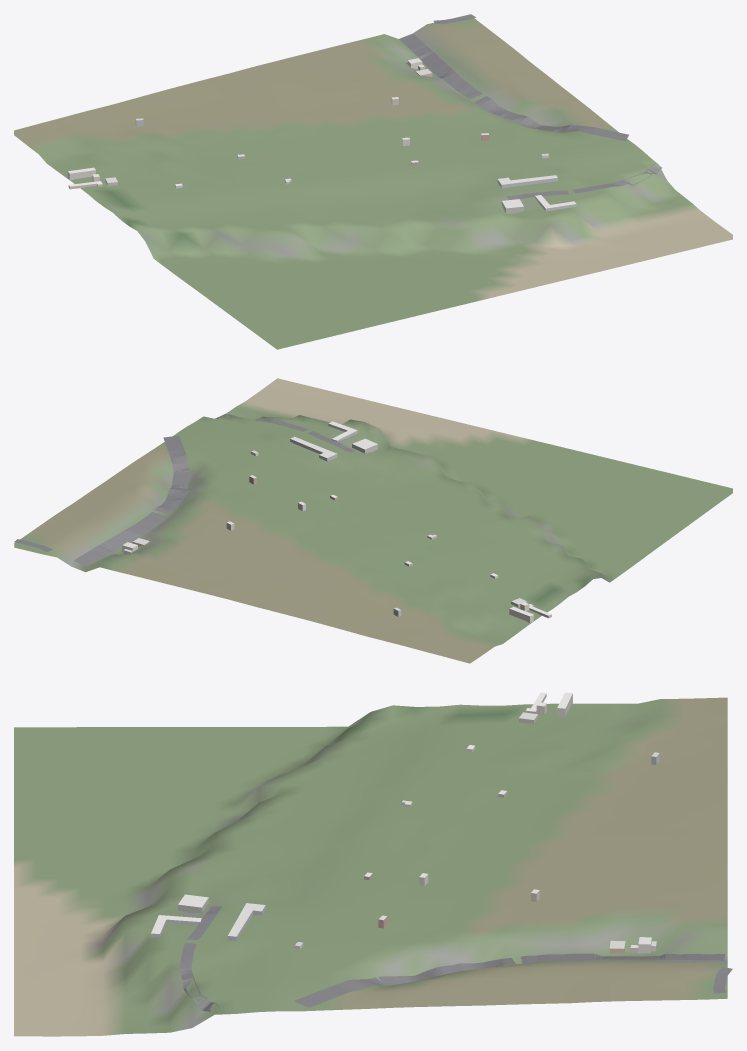
3 views of the same model, one above another, from view 1: azimuth 30°, elevation 25°; view 2: azimuth 150°, elevation 25°; view 3: azimuth 270°, elevation 25° (orthographic). The views are drawn at different scales.
Parts seen in each view (by area): view 1: prim0, prim2, prim1; view 2: prim0, prim2, prim1; view 3: prim0, prim2, prim1.
Boxes of the visible parts, bbox=[...] form: prim0: bbox=[14, 14, 732, 349]; prim2: bbox=[399, 14, 661, 200]; prim1: bbox=[67, 58, 576, 213]; prim0: bbox=[14, 378, 732, 663]; prim2: bbox=[14, 413, 354, 566]; prim1: bbox=[122, 421, 551, 622]; prim0: bbox=[14, 697, 727, 1036]; prim2: bbox=[179, 906, 732, 1011]; prim1: bbox=[151, 692, 659, 953].
Size of the model in its own units: 533 by 38.69 by 516.
